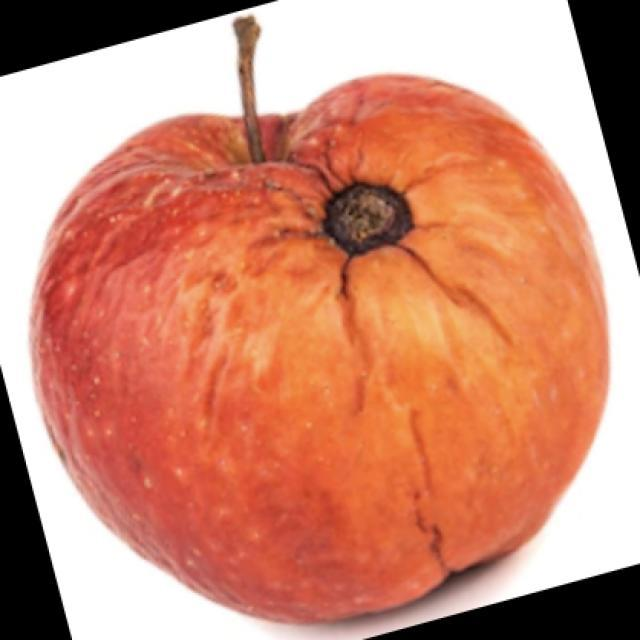Rotten: (33, 69, 612, 634)
